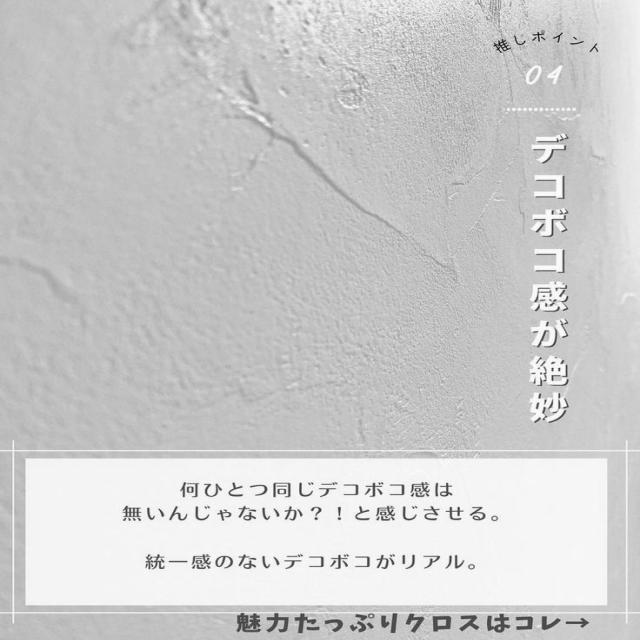trowels marks: (183, 64, 467, 307), (222, 311, 398, 446), (467, 0, 531, 240), (0, 222, 97, 332), (582, 130, 618, 179)
